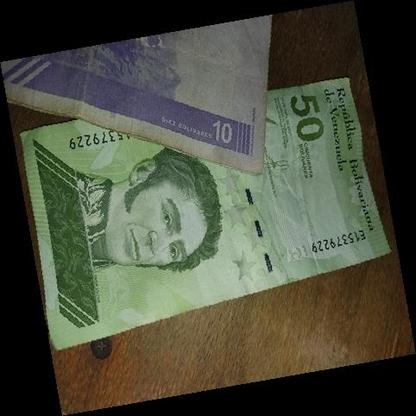fifty-front-vef: (18, 76, 392, 352)
